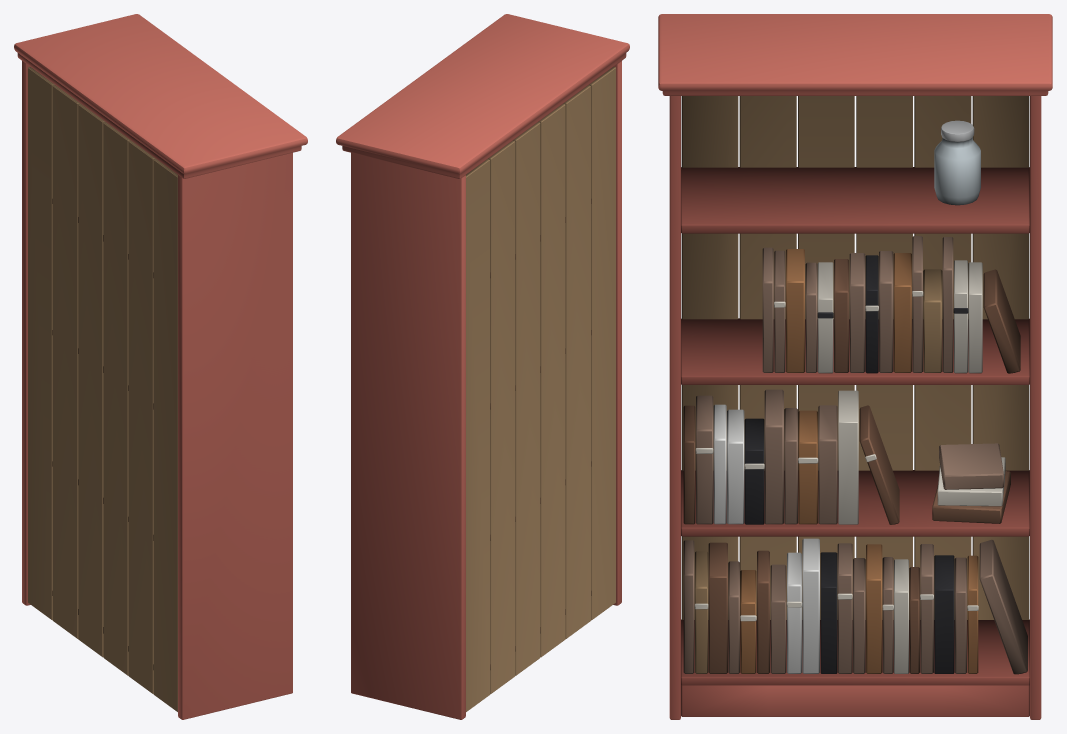
File: nd_bookshelf.glb
The picture shows the model from 3 angles, left to right: view 1: azimuth 30°, elevation 25°; view 2: azimuth 150°, elevation 25°; view 3: azimuth 270°, elevation 25°; orthographic projection. The views are drawn at different scales.
Visible parts, largest first — view 1: PART; view 2: PART; view 3: PART.
Boxes of the visible parts, x1,y1,x2,y2 form: PART: [14, 14, 307, 719]; PART: [336, 14, 629, 719]; PART: [658, 14, 1052, 719].
Size of the model in its own units: 0.36 by 1.53 by 0.85.
